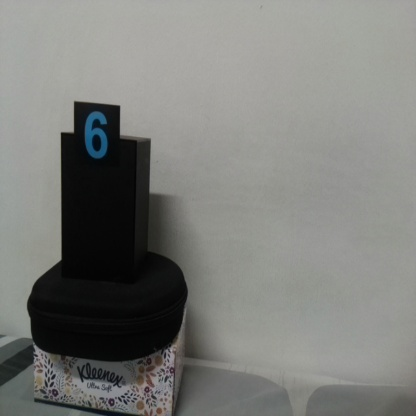id_6: (73, 103, 120, 181)
